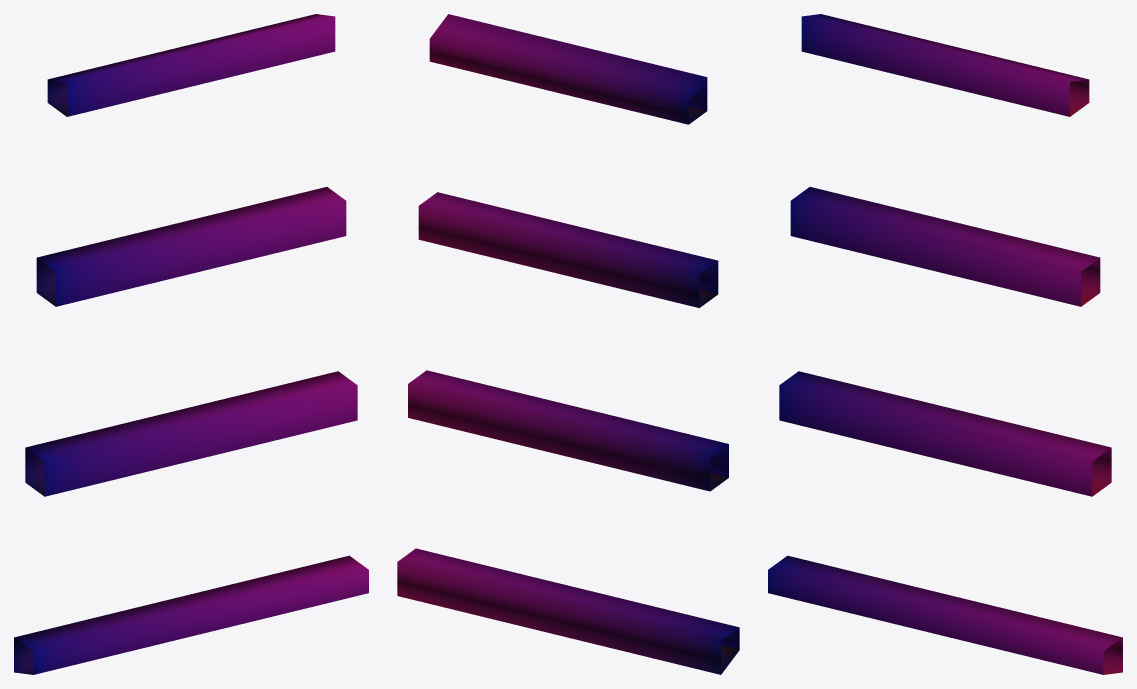
The picture shows the model from 3 angles, left to right: view 1: azimuth 30°, elevation 25°; view 2: azimuth 150°, elevation 25°; view 3: azimuth 330°, elevation 25°; orthographic projection. The views are drawn at different scales.
Visible parts, largest first — view 1: part; view 2: part; view 3: part.
Part boxes in pixels (x1,y1,x2,y2): part: (14, 14, 368, 674); part: (397, 14, 739, 674); part: (768, 14, 1122, 674).
Size of the model in its own units: 3900 by 6630 by 390.
